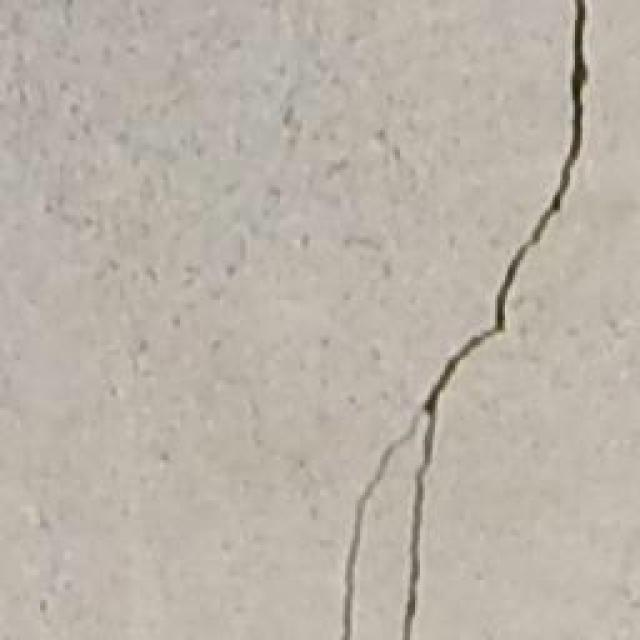concrete-crack: (342, 0, 590, 640)
